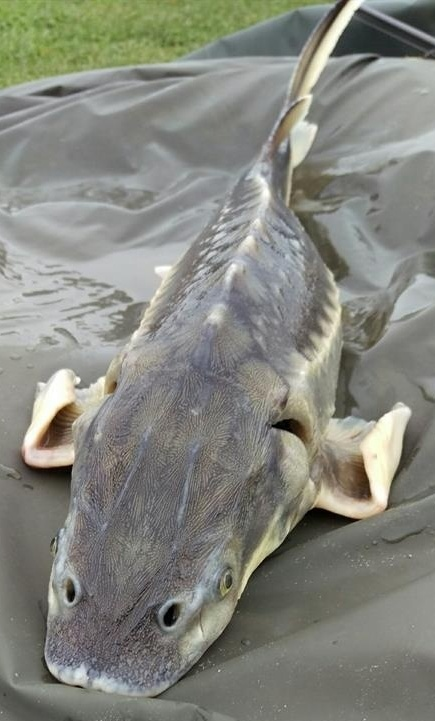Acipenseridae: (20, 1, 415, 701)
